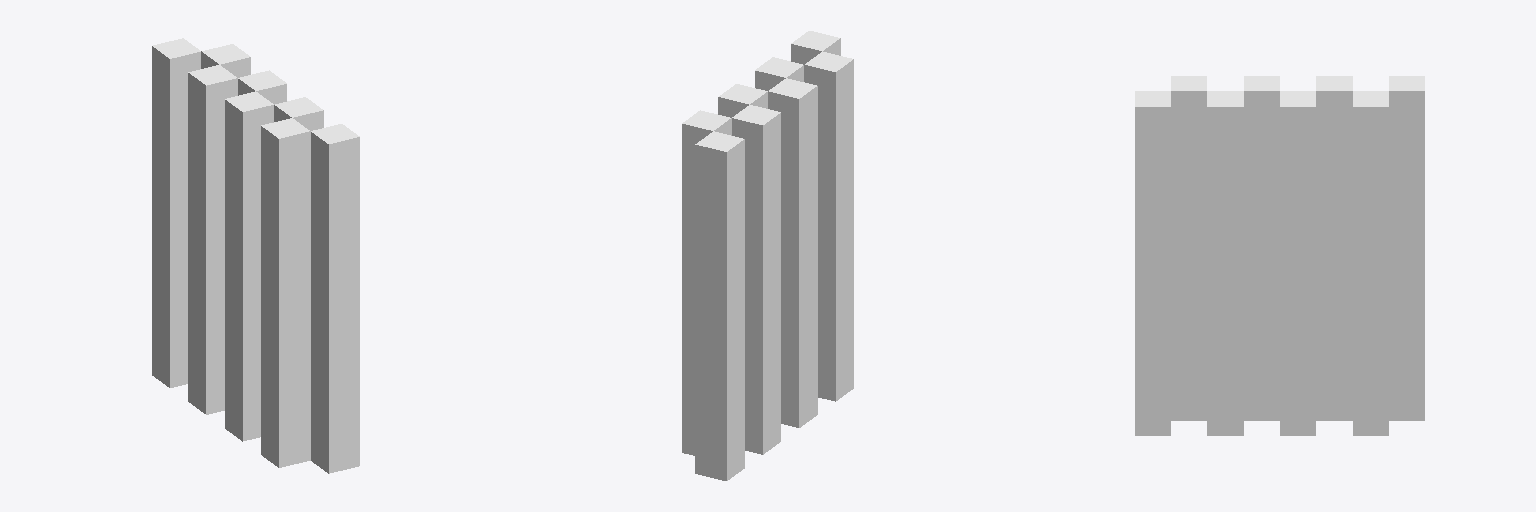
Rendered from SH_Enviorment-23-Sheet_MetalA.obj.
3 renders of one model, left to right at view 1: azimuth 30°, elevation 25°; view 2: azimuth 150°, elevation 25°; view 3: azimuth 270°, elevation 25°, orthographic.
Visible parts, largest first — view 1: Sheet_MetalA; view 2: Sheet_MetalA; view 3: Sheet_MetalA.
Boxes of the visible parts, x1=… form: Sheet_MetalA: x1=152, y1=38, x2=359, y2=473; Sheet_MetalA: x1=682, y1=31, x2=853, y2=480; Sheet_MetalA: x1=1135, y1=76, x2=1424, y2=435.
Bounding box in the file's own units: 0.2 × 1 × 0.8.